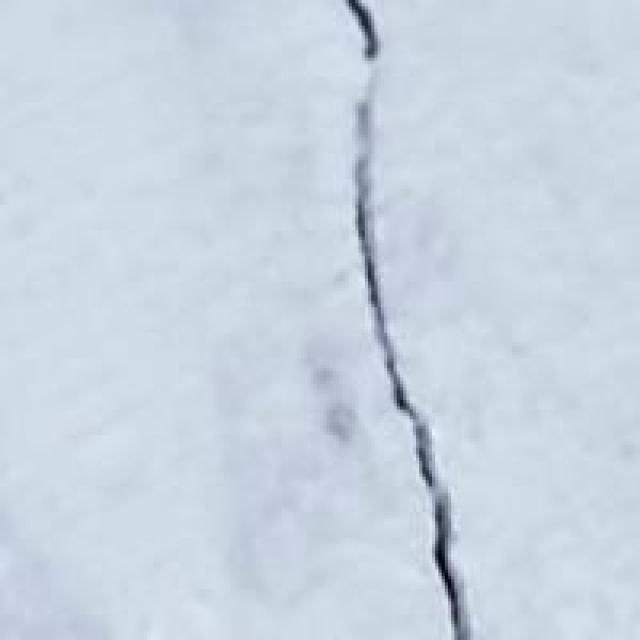crack: (275, 0, 522, 637)
